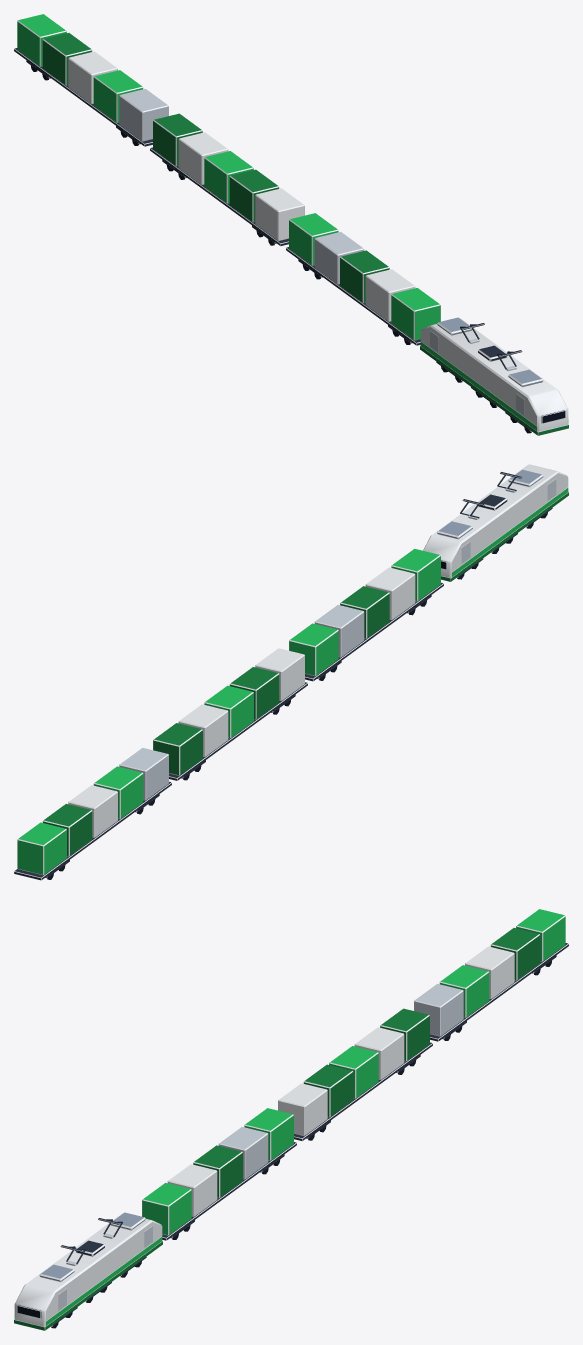
Rendered from freight_train.glb.
The picture shows the model from 3 angles, top to bottom: view 1: azimuth 30°, elevation 25°; view 2: azimuth 150°, elevation 25°; view 3: azimuth 330°, elevation 25°; orthographic projection.
Parts seen in each view (by area): view 1: freight_train; view 2: freight_train; view 3: freight_train.
Part boxes in pixels (<box>): freight_train: <box>14,14,568,435</box>; freight_train: <box>14,464,568,880</box>; freight_train: <box>14,909,568,1330</box>.
Bounding box in the file's own units: 2.86 × 5.15 × 82.06.
